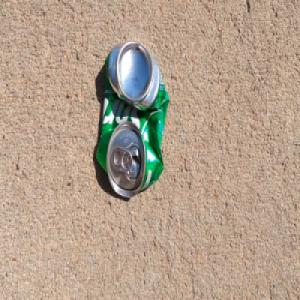SodaCan: (94, 39, 169, 202)
